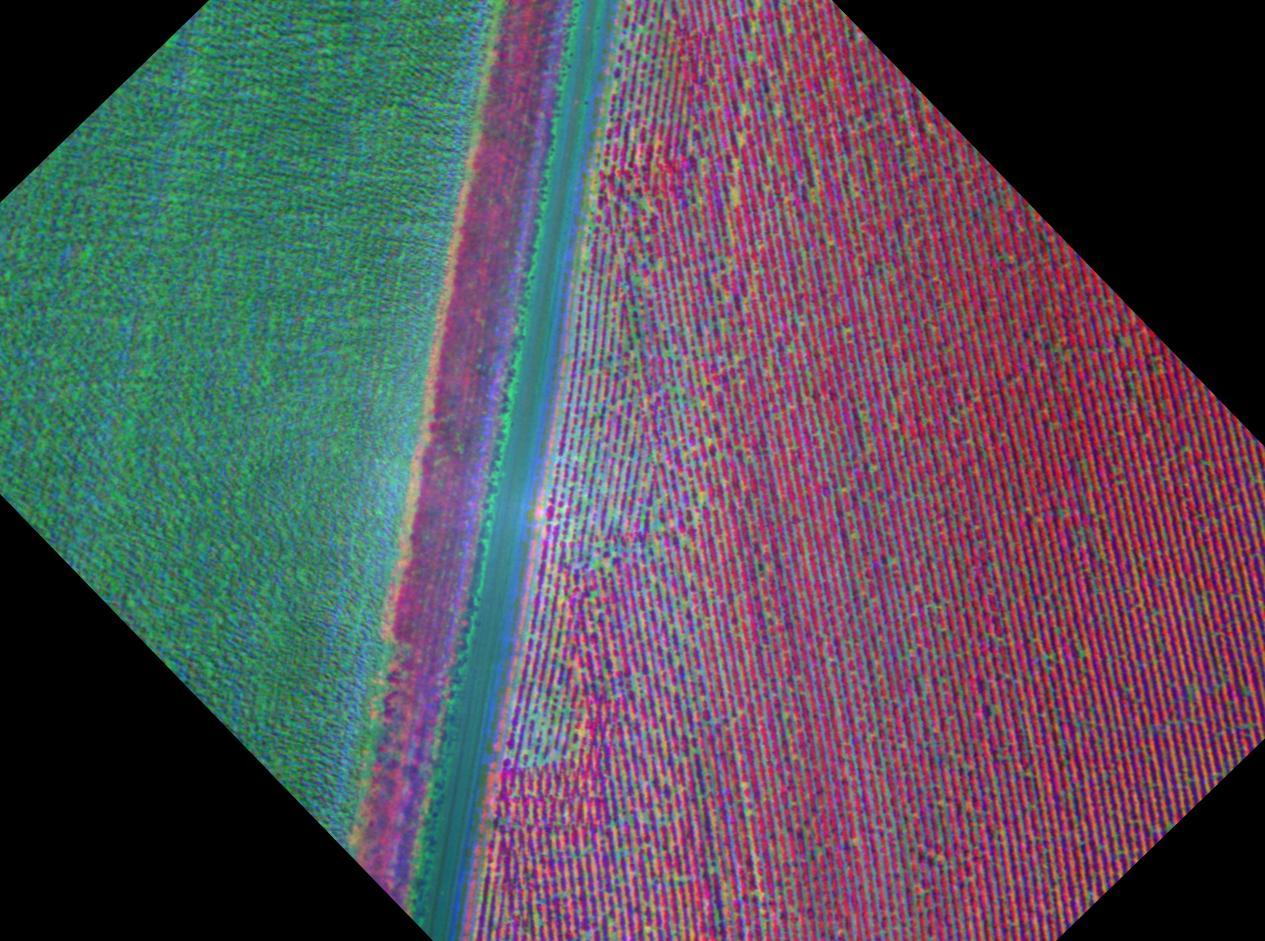dc: (594, 562, 598, 567), (644, 816, 648, 821), (624, 343, 628, 347), (580, 457, 584, 461), (698, 497, 702, 501), (858, 840, 861, 844)
